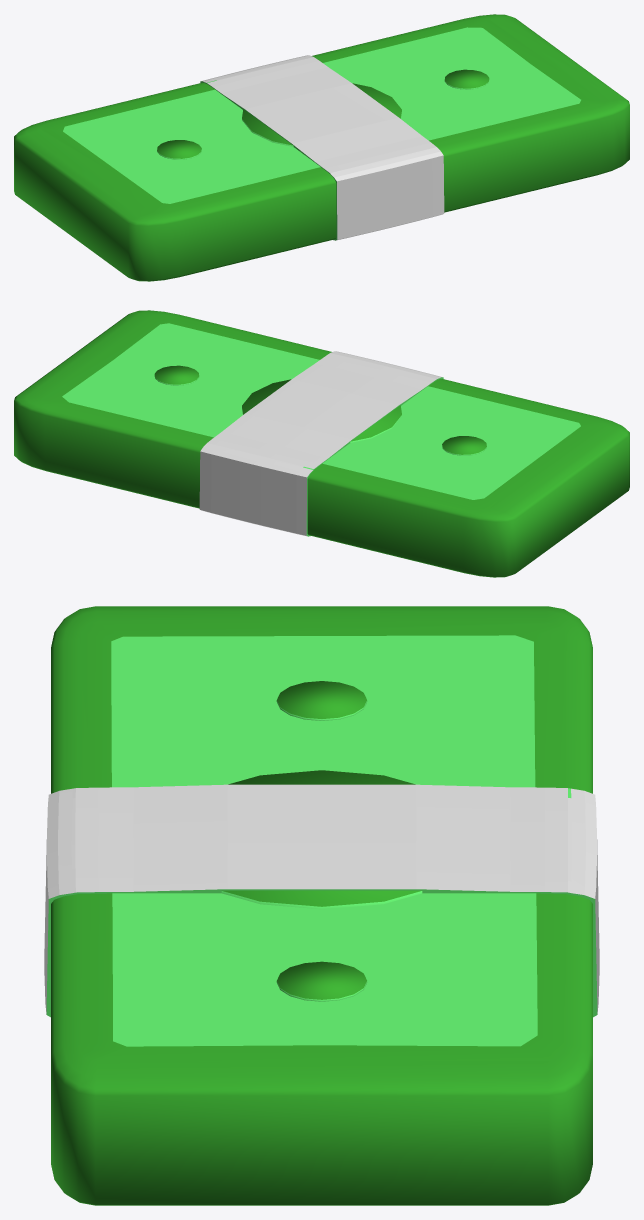
Rendered from dollar.fbx.
3 views of the same model, one above another, from view 1: azimuth 30°, elevation 25°; view 2: azimuth 150°, elevation 25°; view 3: azimuth 270°, elevation 25° (orthographic). The views are drawn at different scales.
Parts seen in each view (by area): view 1: Dollar Low; view 2: Dollar Low; view 3: Dollar Low.
Part boxes in pixels (x1,y1,x2,y2): Dollar Low: (14,14,629,281); Dollar Low: (14,310,629,577); Dollar Low: (44,606,599,1205).
Size of the model in its own units: 624 by 81.49 by 300.
